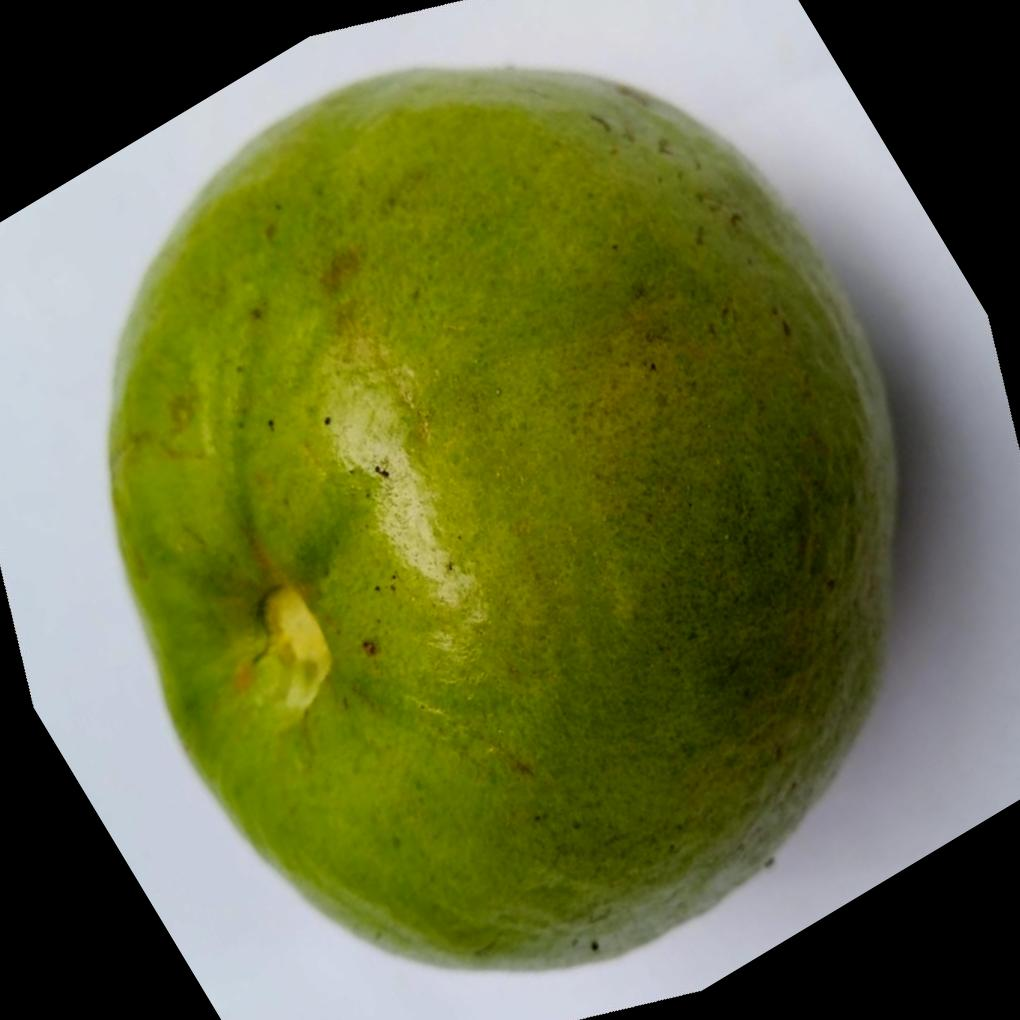FreshGuava: (103, 66, 902, 977)
